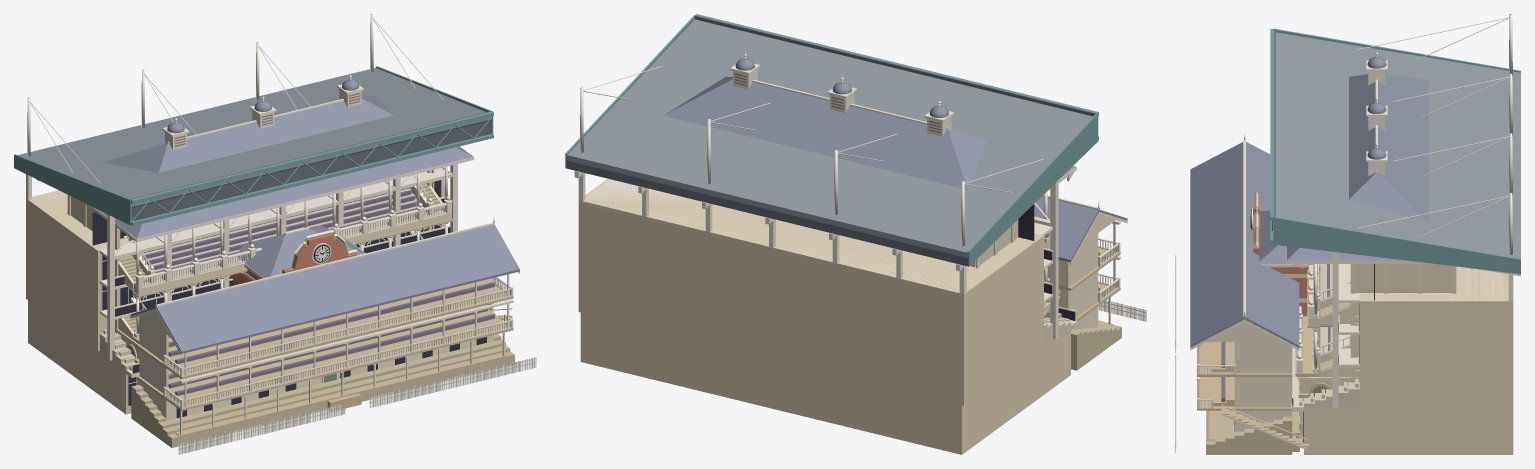
The model's file is gen-hill-l_stands.glb.
3 renders of one model, left to right at view 1: azimuth 30°, elevation 25°; view 2: azimuth 150°, elevation 25°; view 3: azimuth 270°, elevation 25°, orthographic. The views are drawn at different scales.
Visible parts, largest first — view 1: york_stand_south, old_pavilion, park_tiered_stand, park_clock_house; view 2: york_stand_south, park_tiered_stand, old_pavilion; view 3: york_stand_south, old_pavilion, park_tiered_stand, park_clock_house.
Boxes of the visible parts, x1,y1,x2,y2 form: york_stand_south: [14, 14, 514, 447]; old_pavilion: [130, 216, 536, 454]; park_tiered_stand: [67, 75, 505, 446]; park_clock_house: [229, 225, 429, 413]; york_stand_south: [565, 14, 1121, 454]; park_tiered_stand: [663, 53, 1076, 318]; old_pavilion: [1034, 194, 1146, 330]; york_stand_south: [1206, 14, 1520, 454]; old_pavilion: [1175, 133, 1309, 452]; park_tiered_stand: [1286, 52, 1456, 451]; park_clock_house: [1250, 192, 1320, 316].
Bounding box in the file's own units: 46.6 × 30.78 × 36.03.
